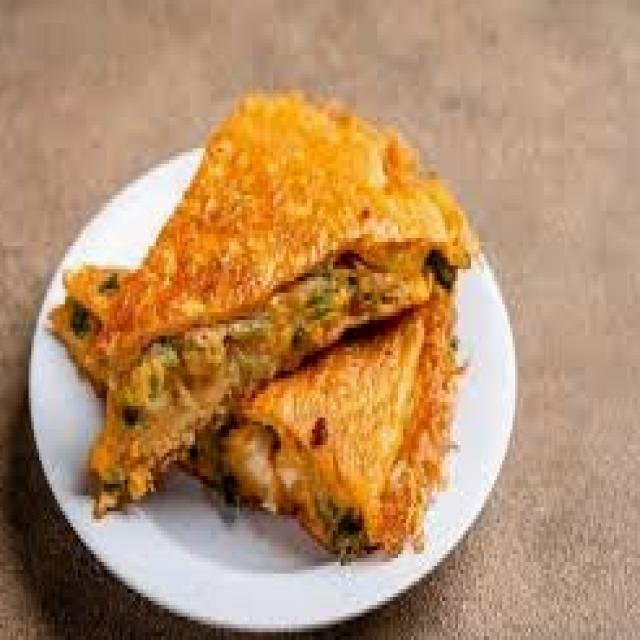telur_dadar: (84, 89, 458, 548)
